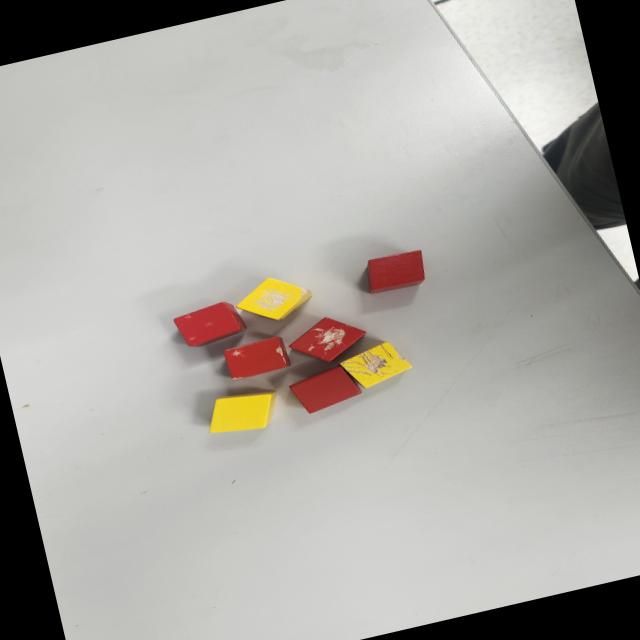broken: (284, 308, 371, 372), (232, 268, 314, 328), (336, 336, 416, 392), (171, 297, 249, 351), (222, 333, 291, 382)
red: (286, 362, 364, 416), (362, 247, 429, 296)
yellow: (200, 384, 284, 441)
